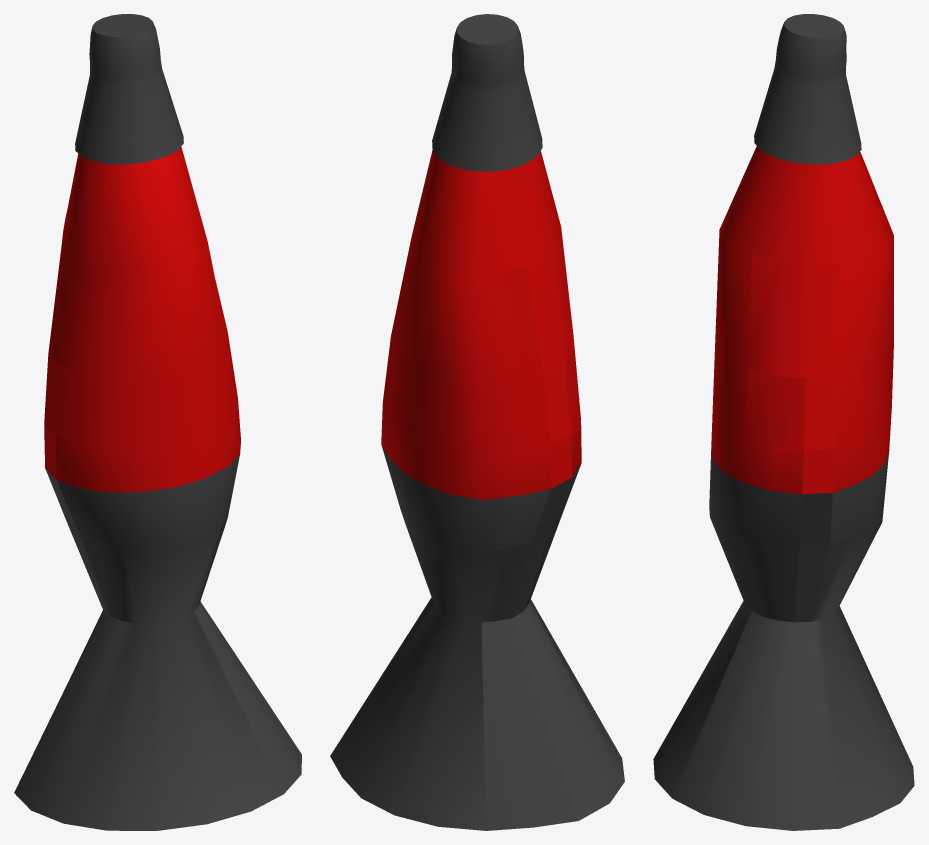
The model's file is lavalamp_pv.fbx.
The picture shows the model from 3 angles, left to right: view 1: azimuth 30°, elevation 25°; view 2: azimuth 150°, elevation 25°; view 3: azimuth 270°, elevation 25°; orthographic projection. The views are drawn at different scales.
Visible parts, largest first — view 1: Cylinder001; view 2: Cylinder001; view 3: Cylinder001.
Part boxes in pixels (x1,y1,x2,y2): Cylinder001: (14, 14, 301, 830); Cylinder001: (330, 14, 624, 830); Cylinder001: (653, 14, 914, 830).
Bounding box in the file's own units: 11.67 × 32.62 × 10.37.
